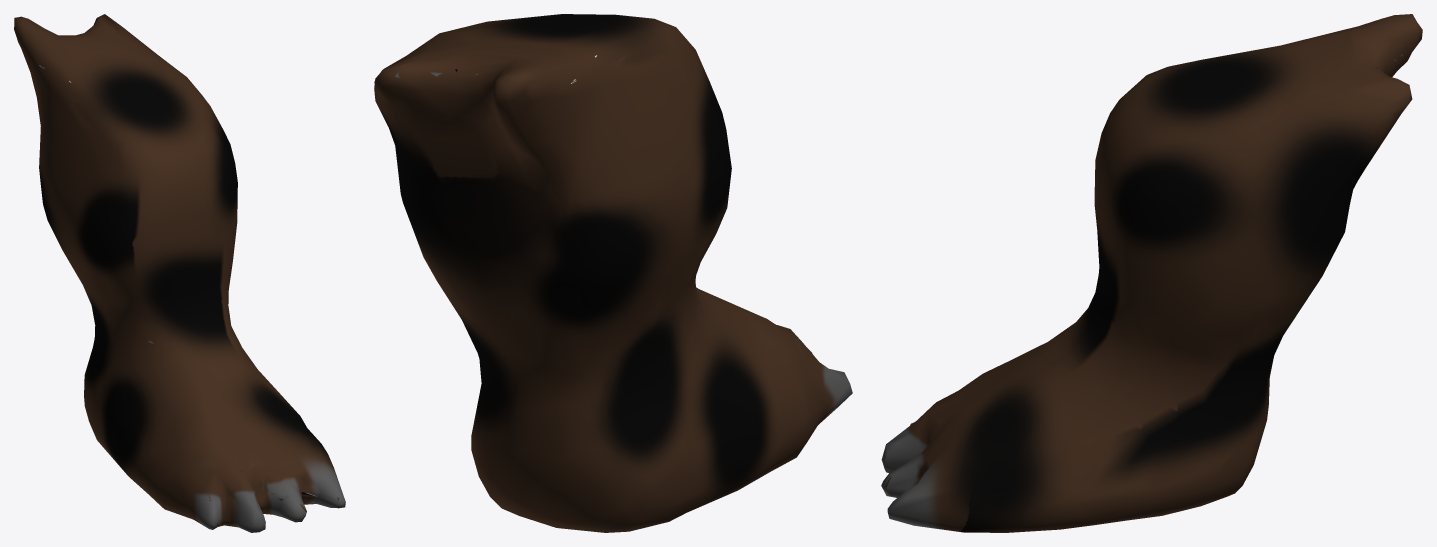
The model's file is pies3D.fbx.
3 views of the same model, side by side, from view 1: azimuth 30°, elevation 25°; view 2: azimuth 150°, elevation 25°; view 3: azimuth 270°, elevation 25° (orthographic). The views are drawn at different scales.
Parts seen in each view (by area): view 1: pies3D; view 2: pies3D; view 3: pies3D.
Boxes of the visible parts, box(x1,y1,x2,y2) form: pies3D: box(14, 14, 345, 532); pies3D: box(374, 14, 852, 532); pies3D: box(881, 14, 1422, 532).
Size of the model in its own units: 14.24 by 29.6 by 32.3.
